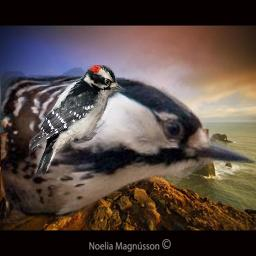Woodpecker: (1, 64, 255, 223), (29, 65, 128, 179)
